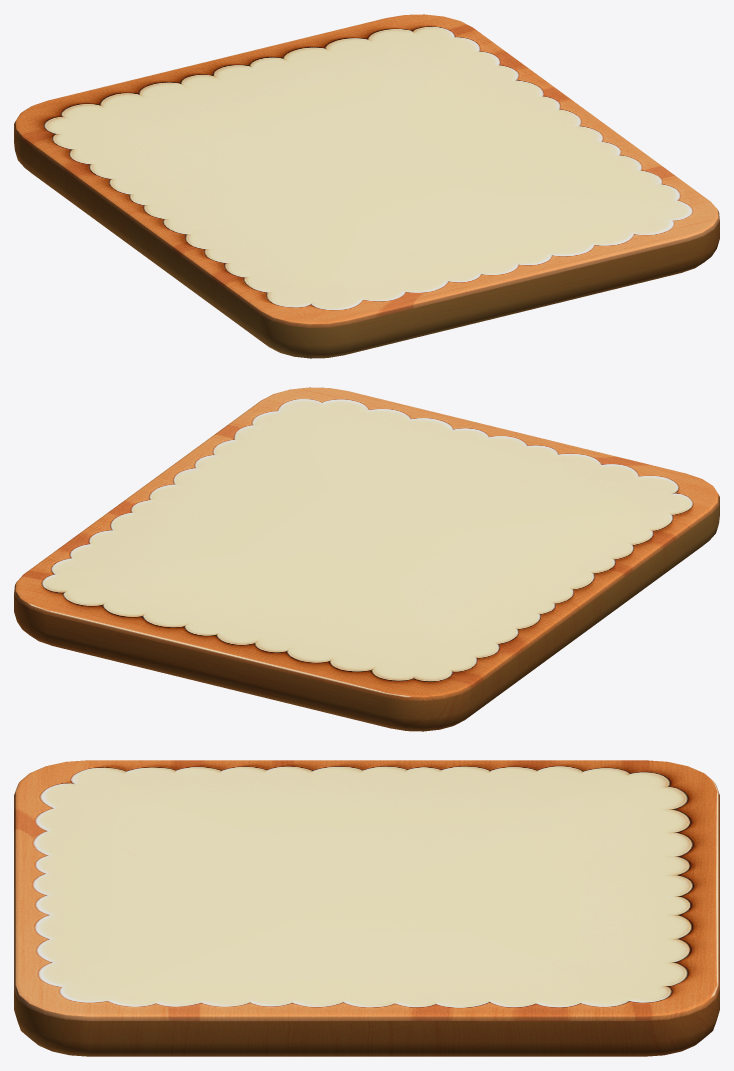
The model's file is model_Board.fbx.
3 views of the same model, one above another, from view 1: azimuth 30°, elevation 25°; view 2: azimuth 150°, elevation 25°; view 3: azimuth 270°, elevation 25° (orthographic). The views are drawn at different scales.
Visible parts, largest first — view 1: model_Board; view 2: model_Board; view 3: model_Board.
Boxes of the visible parts, box(x1,y1,x2,y2) form: model_Board: box(14, 14, 719, 358); model_Board: box(14, 387, 719, 731); model_Board: box(14, 760, 719, 1056).
Size of the model in its own units: 467 by 41.81 by 540.
